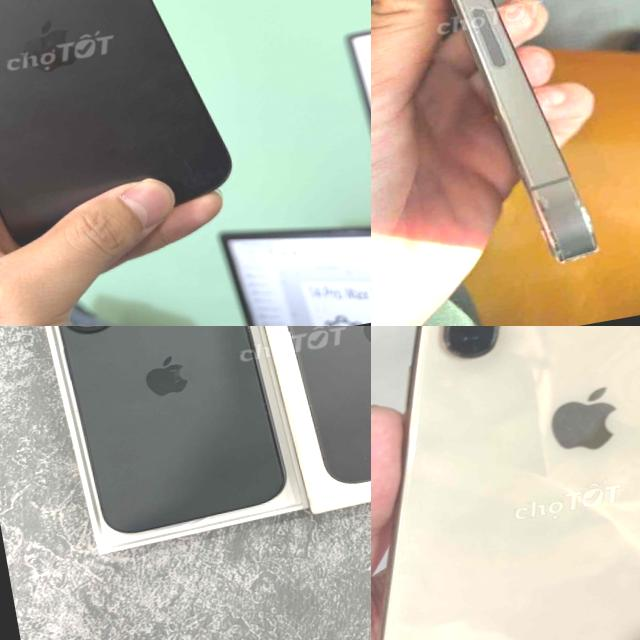gen_12_13: (371, 0, 620, 291)
gen_16: (0, 0, 228, 244), (53, 326, 285, 532)
gen_x_xs: (371, 326, 640, 640)
